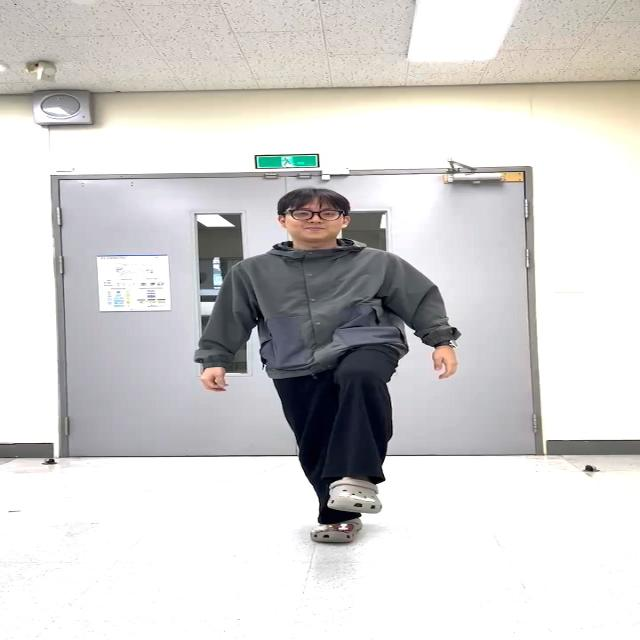leg: (314, 338, 410, 514)
